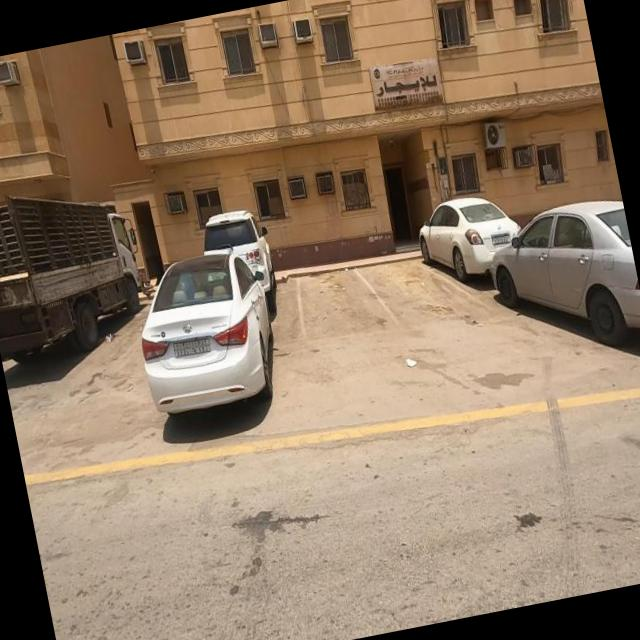debris: (375, 322, 439, 406), (86, 308, 132, 371)
